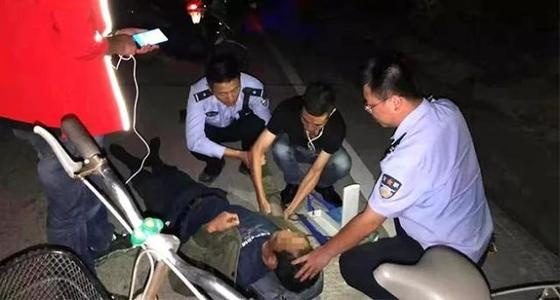falling: (113, 122, 331, 298)
